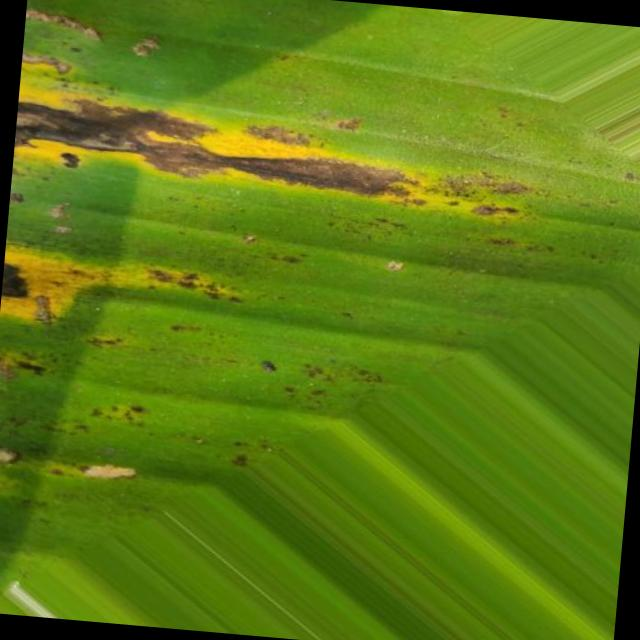Banana_Black_Sigatoka: (0, 64, 461, 431)
